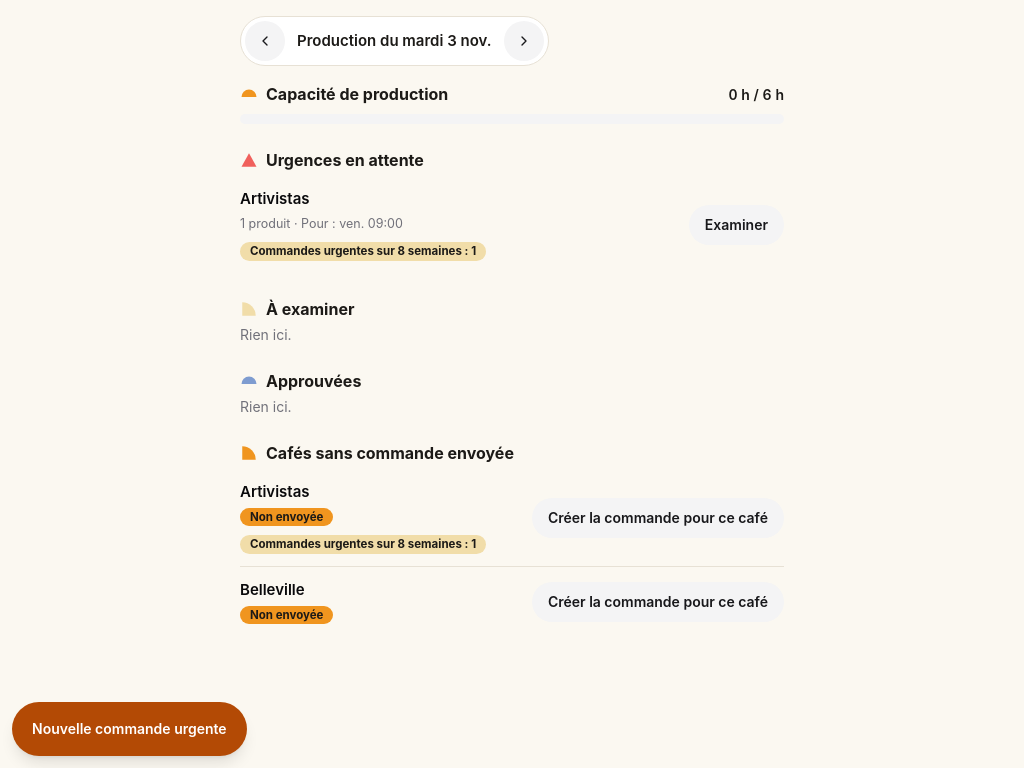
Scenario: StoresReview › previews capacity from the opened order's own round
Click the button "Examiner" at (736, 225), box [689,205,784,245]
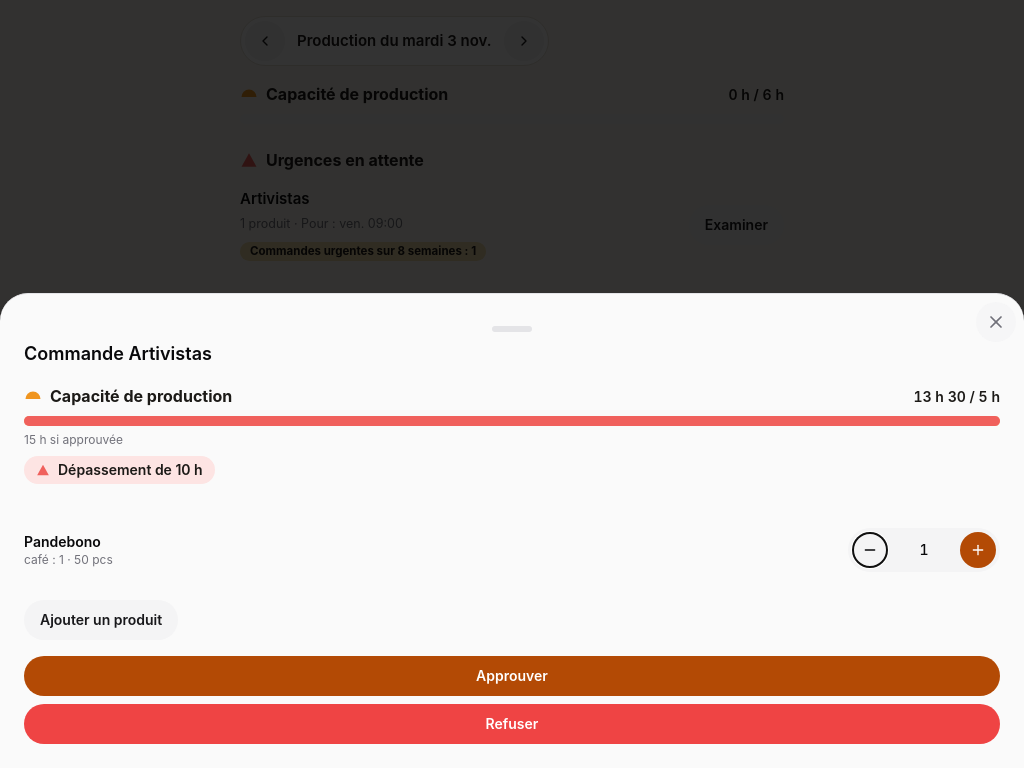
Now the text "13 h 30 / 5 h" is shown, box [914,386,1000,406]
